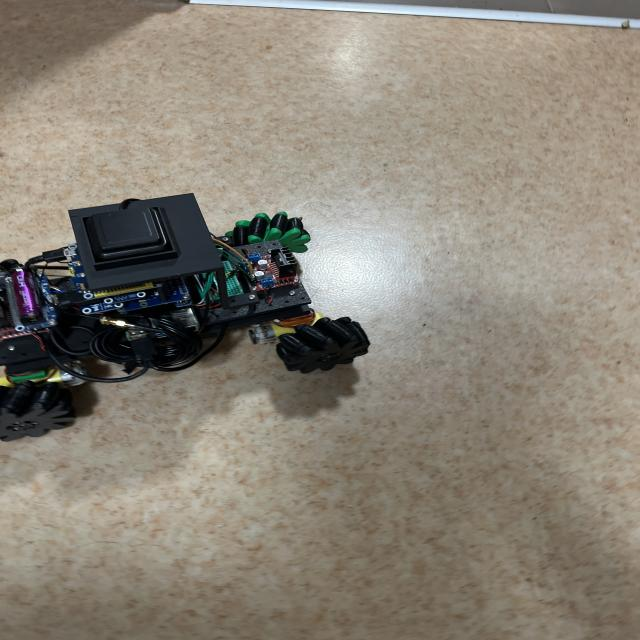robot: (0, 193, 370, 440)
